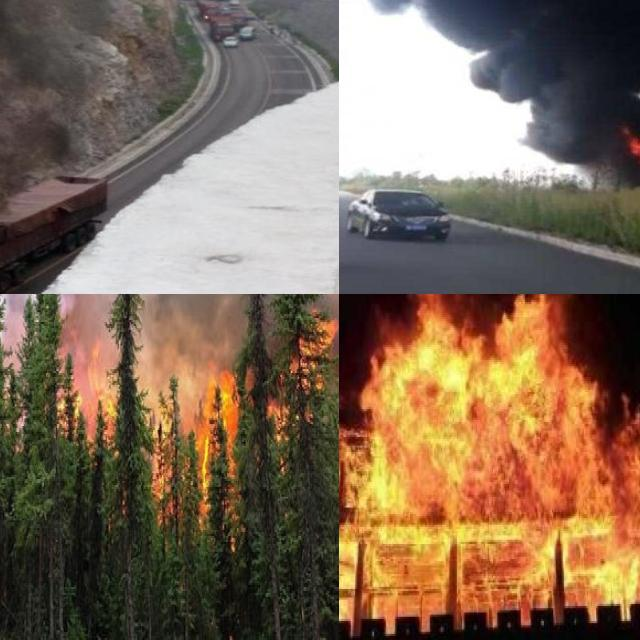fire: (339, 294, 640, 612), (33, 294, 337, 549)
smoke: (339, 0, 640, 178), (0, 294, 339, 430), (0, 0, 71, 286)
